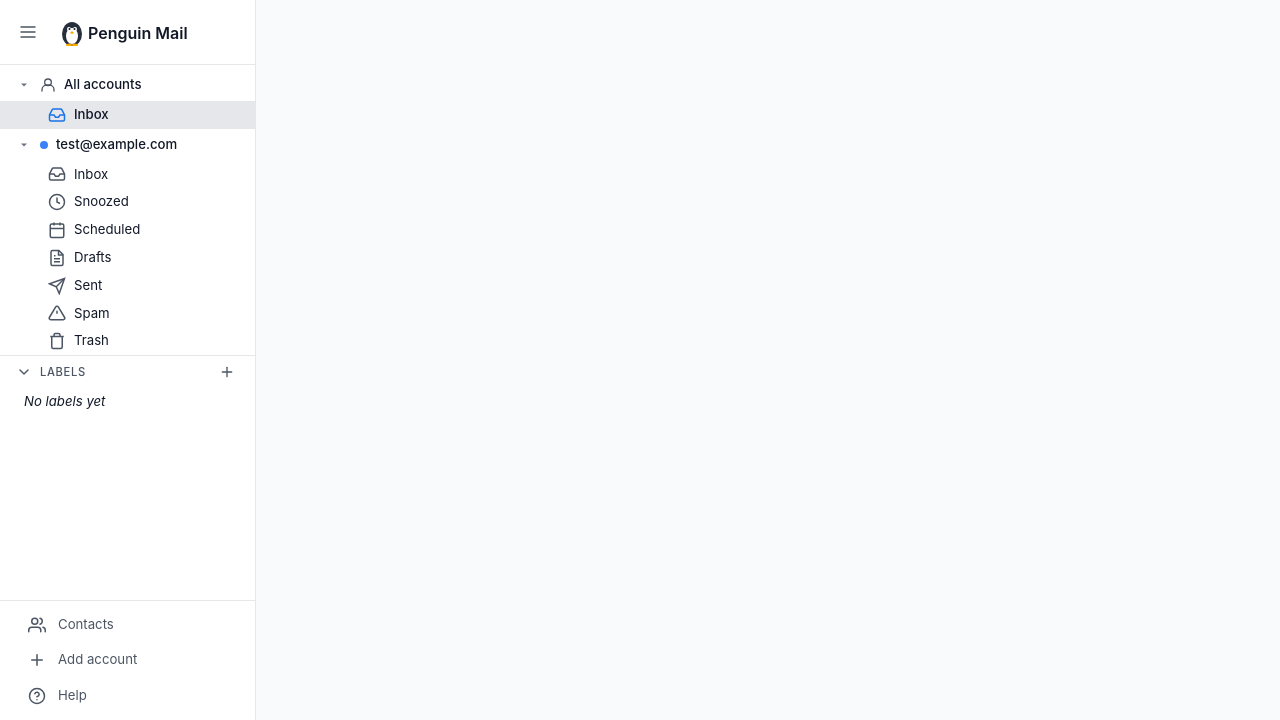
Test: Sidebar - Extended coverage › closes Help dialog when Got it is clicked
Click the button "Help".
click(128, 696)  # box 16,680 -> 239,712
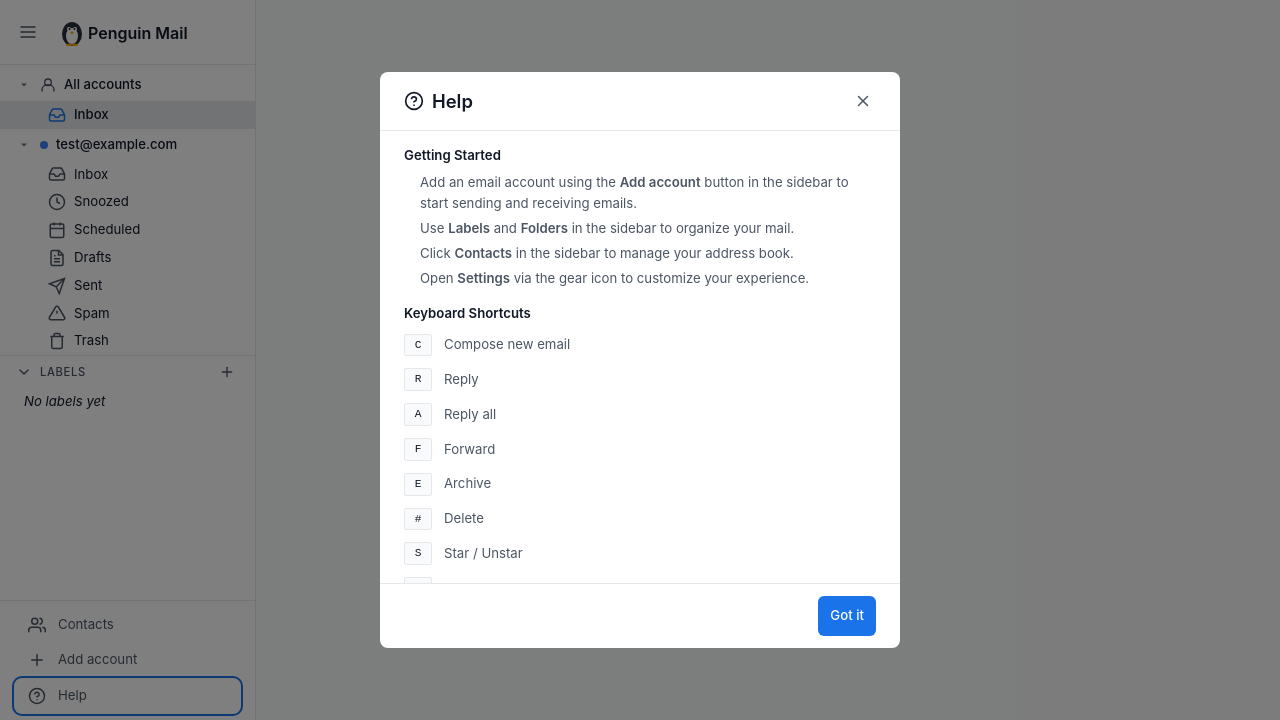
Expected: the dialog is shown, 380,72 -> 900,648
Click the button "Got it".
click(847, 616)  # box 818,596 -> 876,636
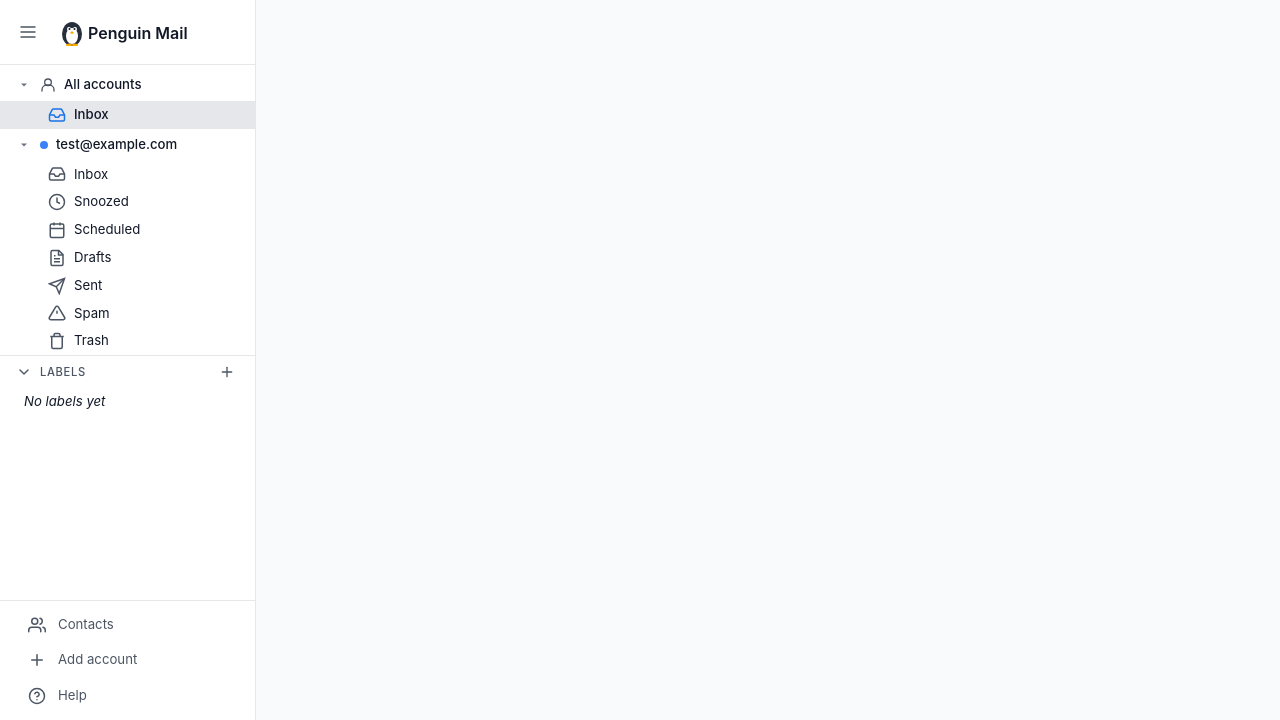
Expected: the dialog is gone
